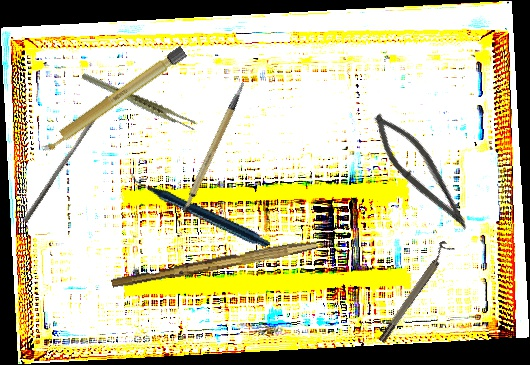Fixation Ring: (372, 239, 456, 345)
Handpiece: (130, 131, 271, 287)
Micro Scissor: (360, 105, 484, 238)
Pusher: (22, 92, 112, 227)
Scalpel Handle: (38, 44, 188, 156), (165, 81, 265, 215), (110, 234, 319, 293)
Tissue Forceps: (80, 53, 199, 149)
